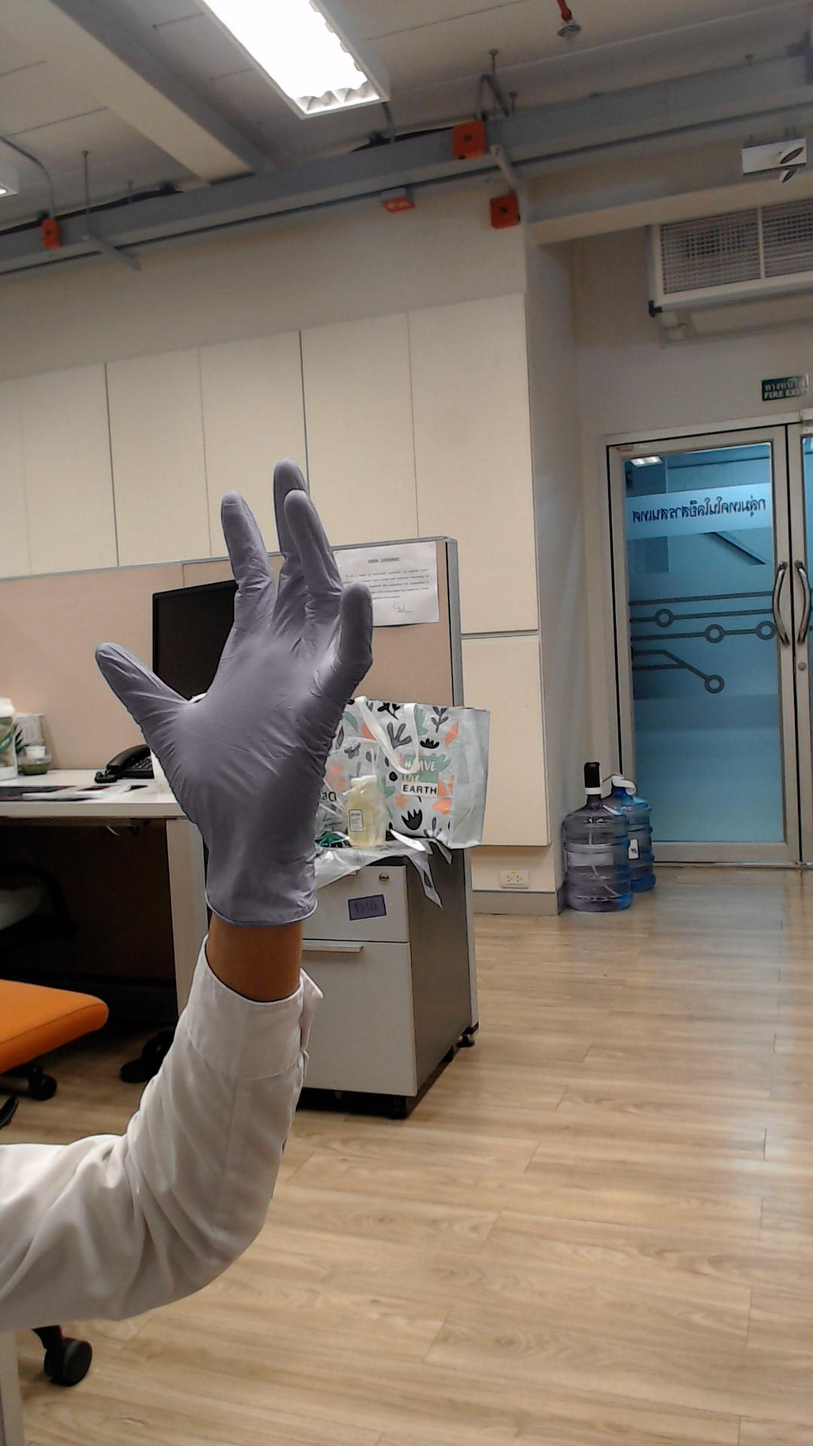gloves: (65, 444, 411, 889)
